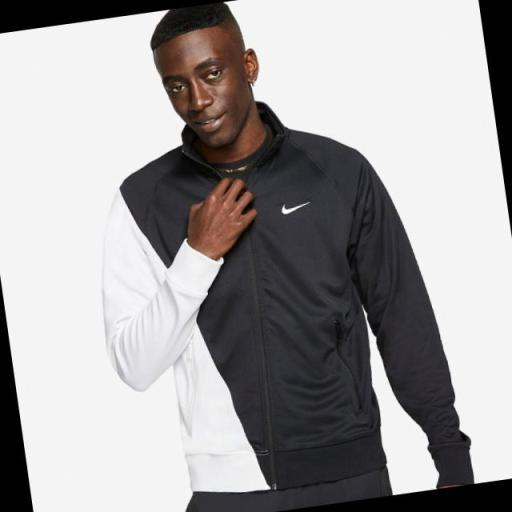Nike: (278, 196, 314, 220)
